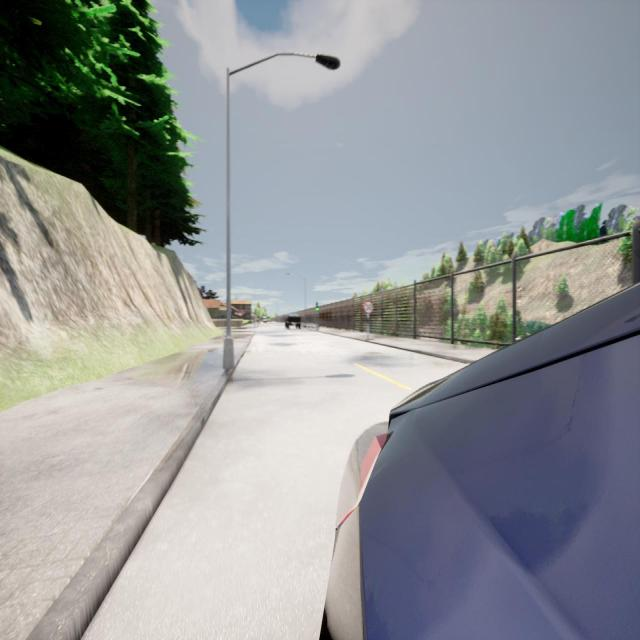Traffic_Signs: (364, 301, 373, 313)
Vehicle: (319, 281, 640, 640), (284, 314, 303, 329), (262, 314, 268, 323)
traffic_light: (316, 302, 320, 312)
